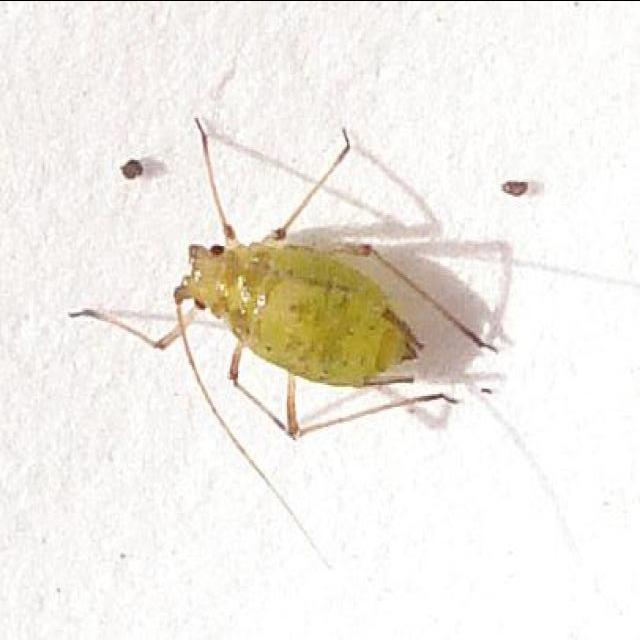aphid: (100, 95, 486, 530)
